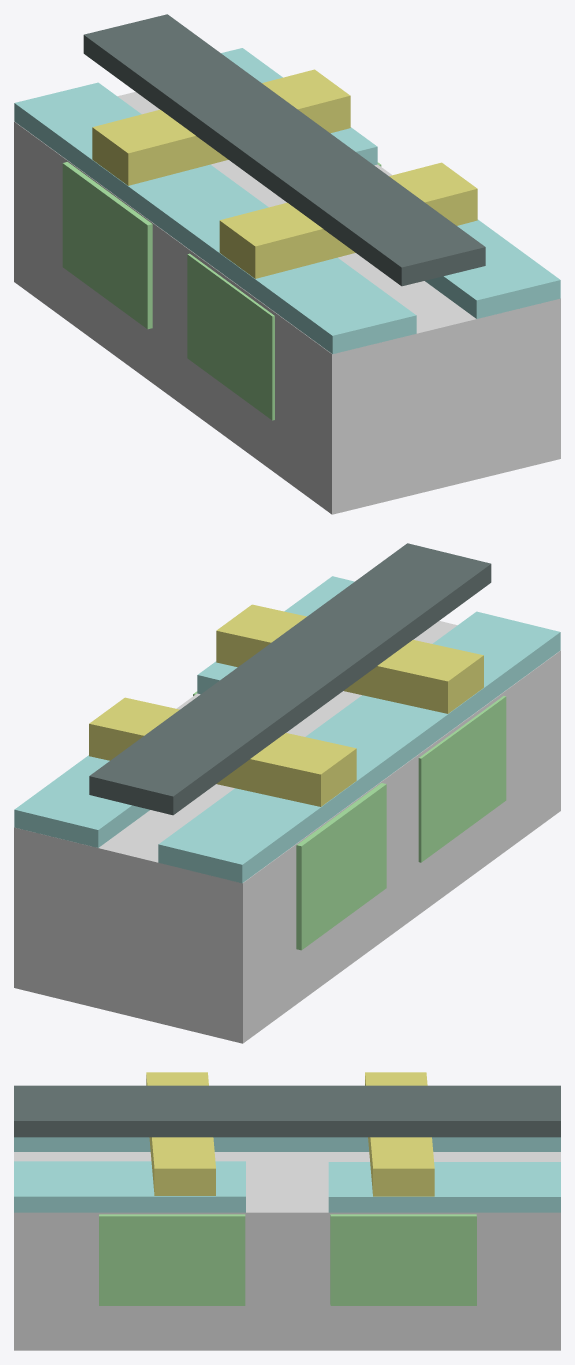
File: metallization.gltf
The picture shows the model from 3 angles, top to bottom: view 1: azimuth 30°, elevation 25°; view 2: azimuth 150°, elevation 25°; view 3: azimuth 270°, elevation 25°; orthographic projection. The views are drawn at different scales.
Visible parts, largest first — view 1: Cube, Cube.008, Cube.003, Cube.005, Cube.006, Cube.007, Cube.002, Cube.004, Cube.001; view 2: Cube, Cube.008, Cube.003, Cube.005, Cube.006, Cube.007, Cube.002, Cube.001, Cube.004; view 3: Cube, Cube.008, Cube.002, Cube.005, Cube.004, Cube.001, Cube.003, Cube.006, Cube.007.
Boxes of the visible parts, x1,y1,x2,y2 form: Cube: (14,92,560,514); Cube.008: (83,14,485,286); Cube.003: (14,82,416,354); Cube.005: (62,162,381,329); Cube.006: (92,69,350,185); Cube.007: (219,162,477,278); Cube.002: (187,253,274,420); Cube.004: (425,219,560,318); Cube.001: (221,48,377,165); Cube: (14,621,560,1043); Cube.008: (89,543,491,815); Cube.003: (158,611,560,883); Cube.005: (296,783,386,950); Cube.006: (89,697,356,806); Cube.007: (216,604,483,713); Cube.002: (193,691,506,862); Cube.001: (14,755,149,847); Cube.004: (197,576,354,694); Cube: (14,1152,560,1350); Cube.008: (14,1085,560,1137); Cube.002: (99,1214,245,1305); Cube.005: (330,1214,476,1305); Cube.004: (14,1161,245,1212); Cube.001: (328,1162,560,1212); Cube.003: (14,1137,560,1151); Cube.006: (365,1072,434,1196); Cube.007: (146,1072,215,1195).
Bounding box in the file's own units: 2.08 × 1.92 × 4.82.
